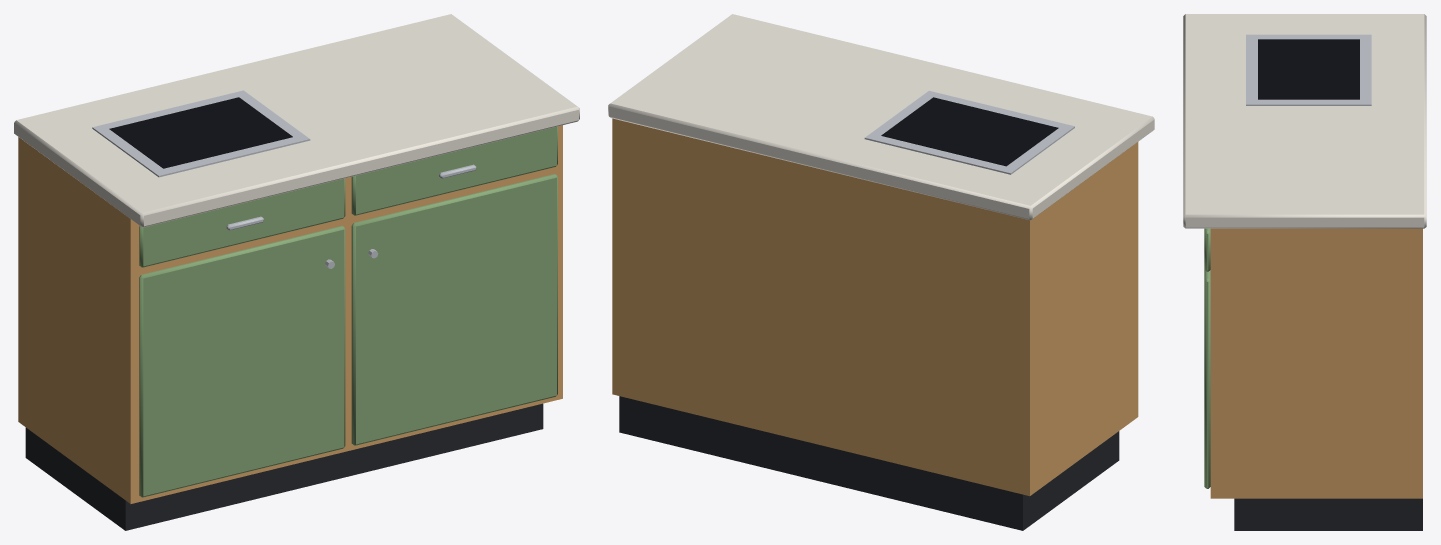
File: kitchen_counter.glb
The picture shows the model from 3 angles, left to right: view 1: azimuth 30°, elevation 25°; view 2: azimuth 150°, elevation 25°; view 3: azimuth 270°, elevation 25°; orthographic projection. The views are drawn at different scales.
Parts seen in each view (by area): view 1: body; view 2: body; view 3: body.
Part boxes in pixels (<box>): body: <box>14,14,579,530</box>; body: <box>608,14,1154,530</box>; body: <box>1183,14,1426,530</box>.
Size of the model in its own units: 122 by 90.5 by 62.
